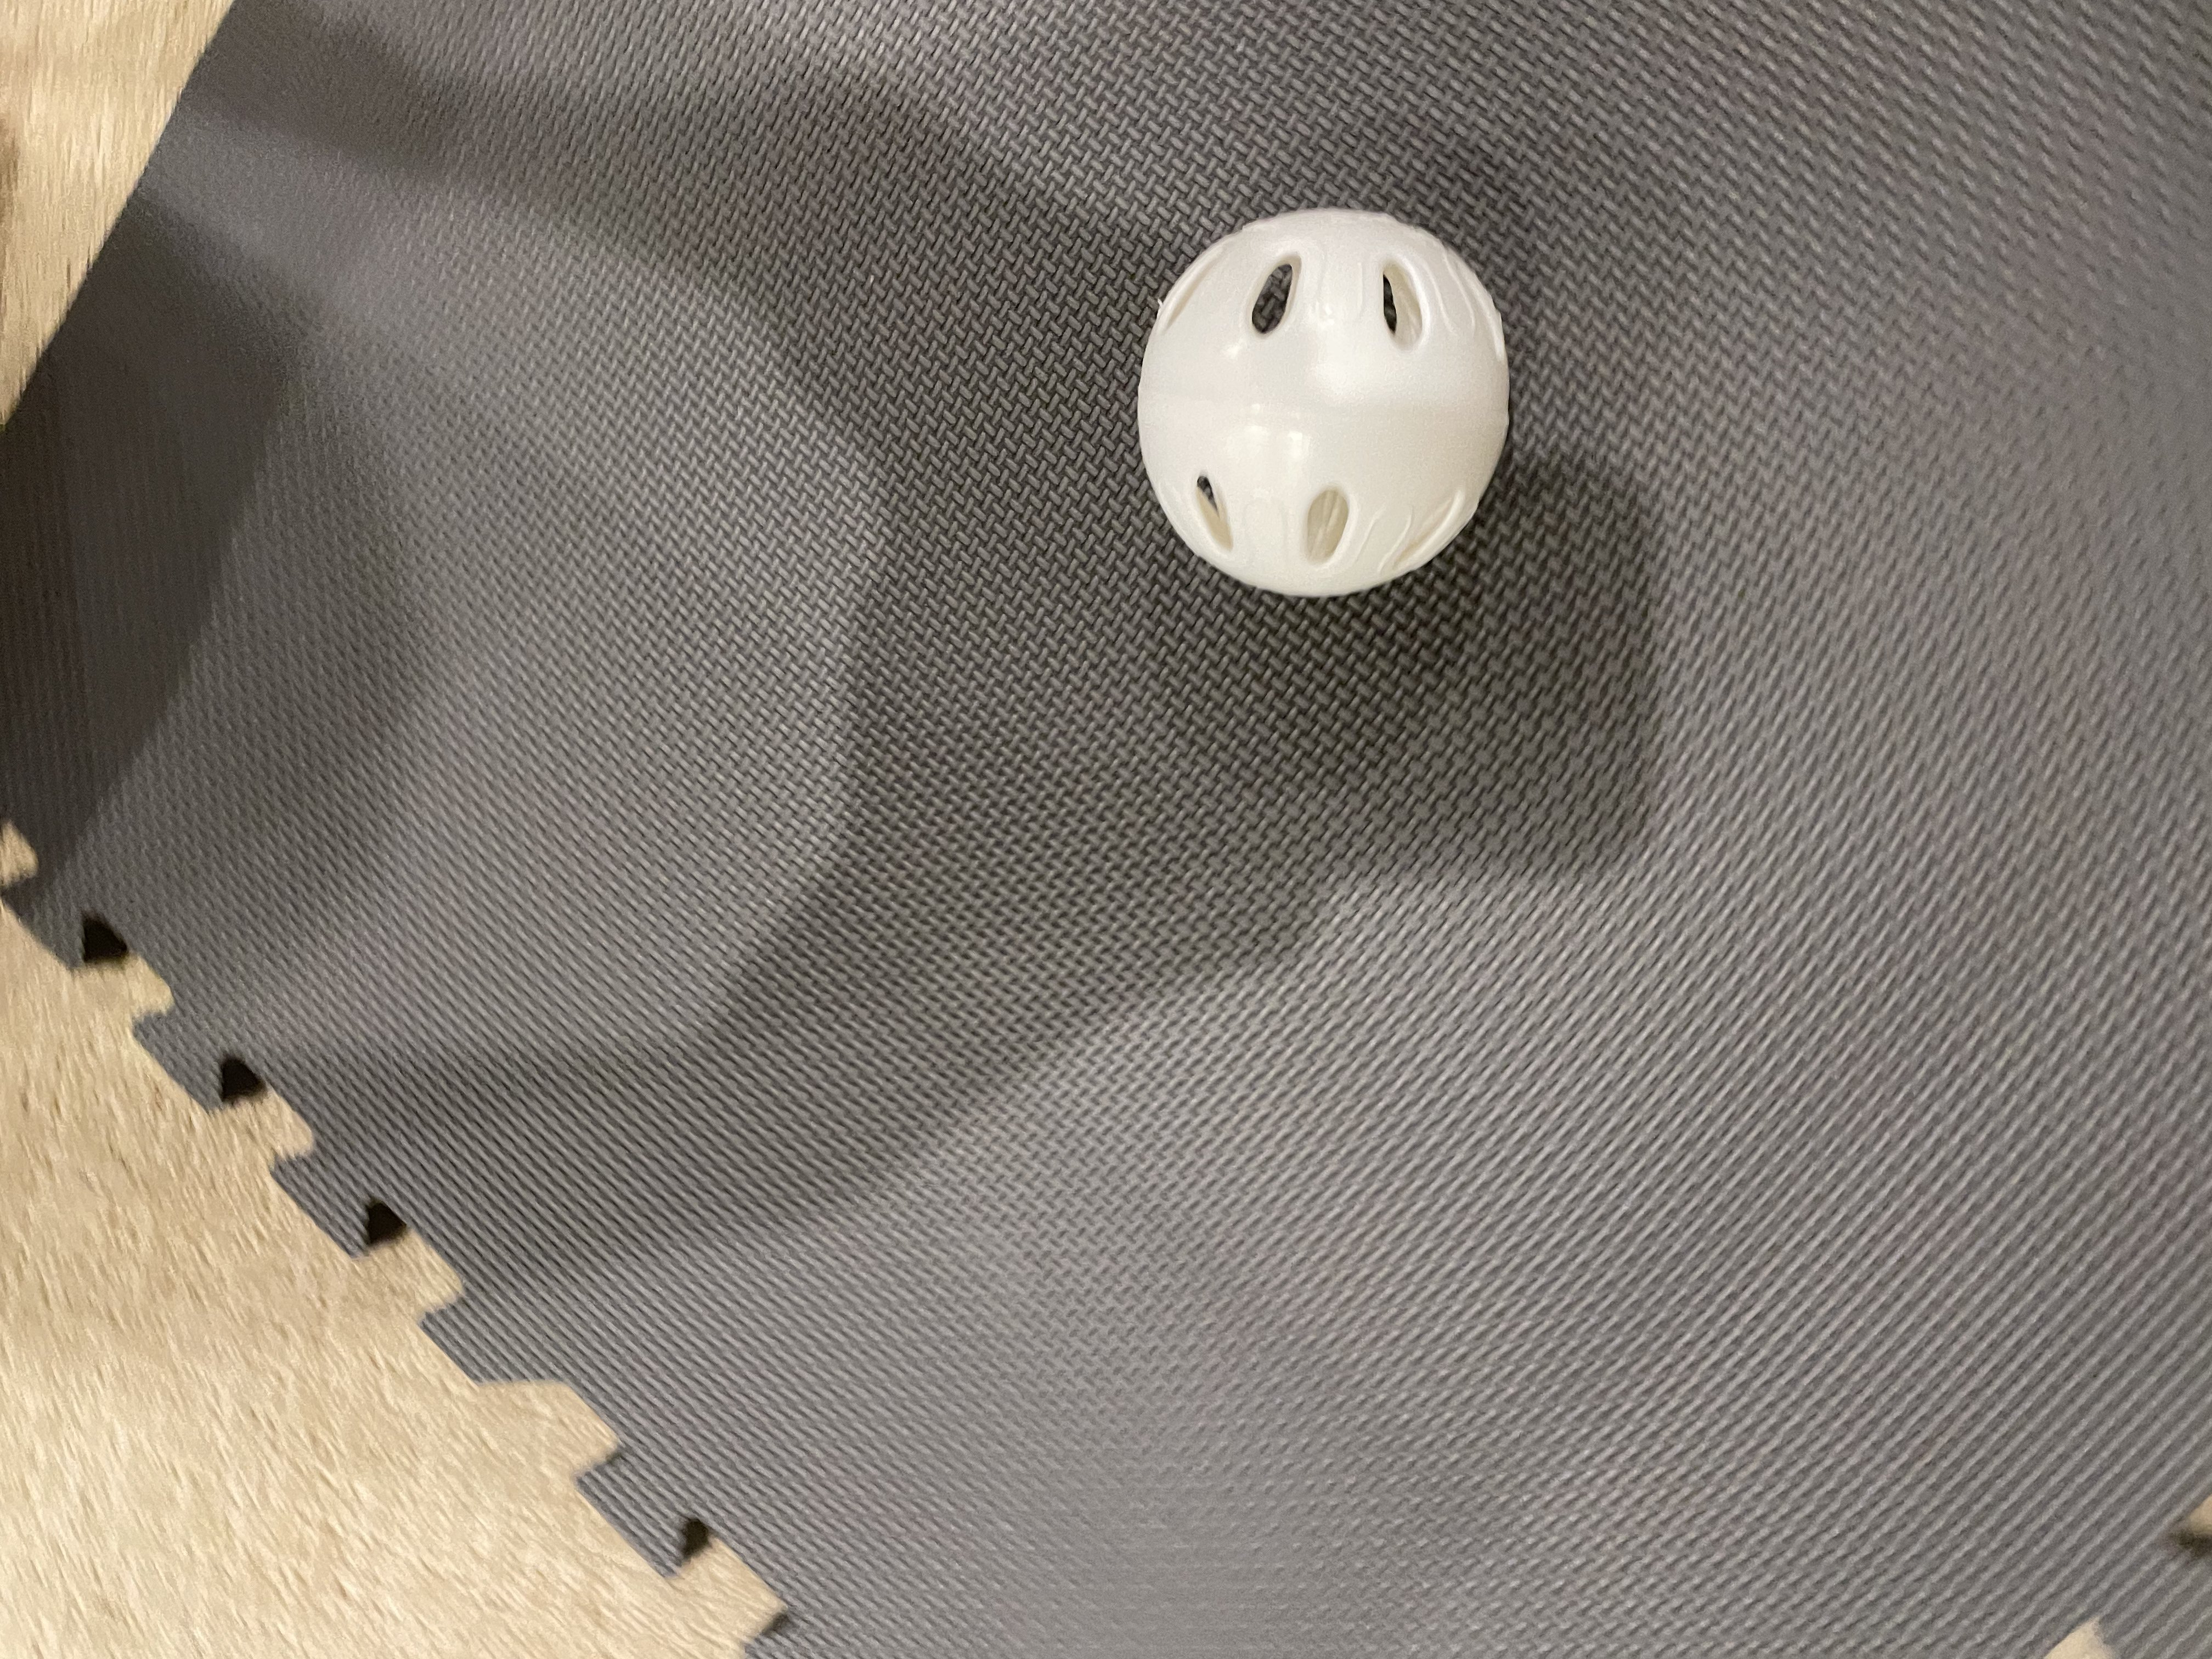ball: (1087, 169, 1541, 624)
